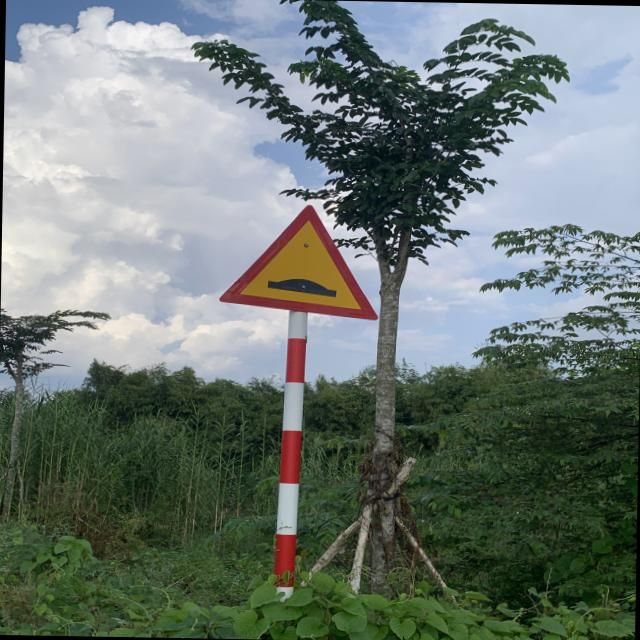Duong_Cong_Ben_Phai: (218, 202, 380, 320)
